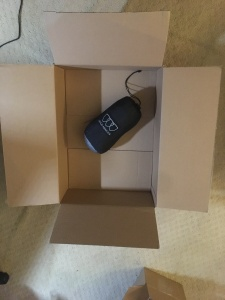innerbox: (53, 63, 159, 209)
outerbox: (2, 12, 218, 247)
product: (85, 96, 141, 151)
